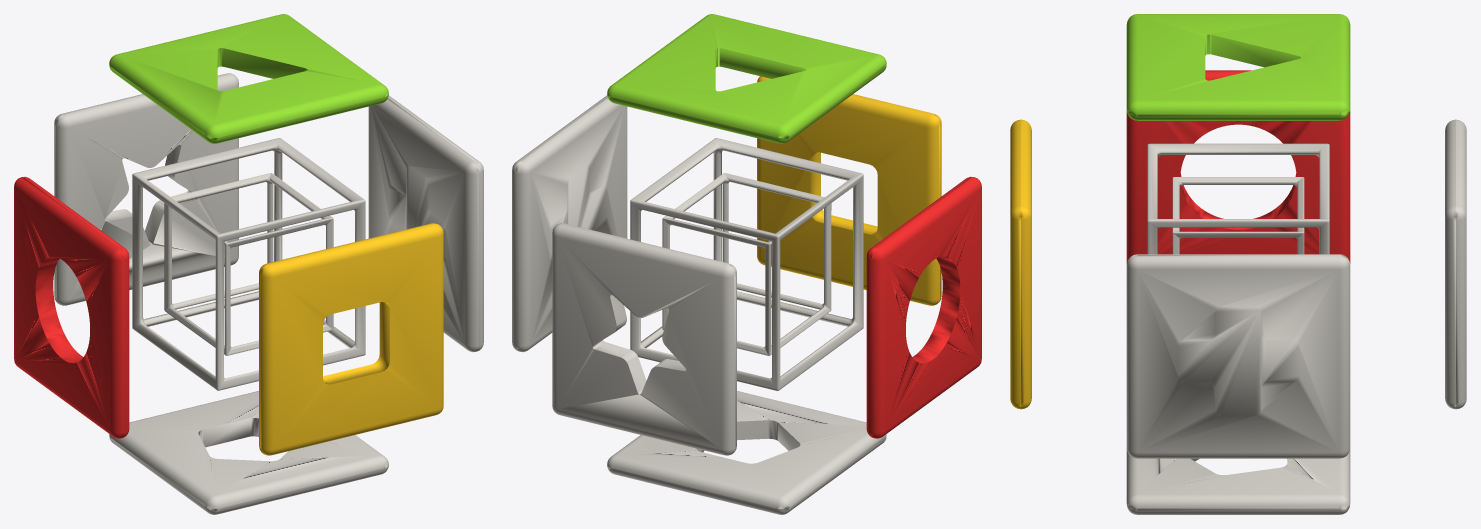
File: Toy_Cube_Hollow_Unity.fbx
3 renders of one model, left to right at view 1: azimuth 30°, elevation 25°; view 2: azimuth 150°, elevation 25°; view 3: azimuth 270°, elevation 25°, orthographic. The views are drawn at different scales.
Visible parts, largest first — view 1: Panel_Yellow_Square, Panel_Back_Star, Panel_Green_Triangle, Panel_Red_Circle, Panel_Right_Cross, Panel_Grey_Pentagon, Inner_Framework, Inner_Frame_Secondary; view 2: Panel_Back_Star, Panel_Green_Triangle, Panel_Red_Circle, Panel_Yellow_Square, Panel_Right_Cross, Panel_Grey_Pentagon, Inner_Framework, Inner_Frame_Secondary; view 3: Panel_Right_Cross, Panel_Green_Triangle, Panel_Red_Circle, Panel_Grey_Pentagon, Panel_Yellow_Square, Panel_Back_Star, Inner_Framework, Inner_Frame_Secondary.
Boxes of the visible parts, x1,y1,x2,y2 form: Panel_Yellow_Square: (259, 223, 443, 455); Panel_Back_Star: (54, 73, 238, 305); Panel_Green_Triangle: (109, 14, 388, 143); Panel_Red_Circle: (14, 176, 129, 438); Panel_Right_Cross: (368, 95, 483, 352); Panel_Grey_Pentagon: (109, 391, 388, 514); Inner_Framework: (132, 138, 365, 390); Inner_Frame_Secondary: (164, 173, 333, 355); Panel_Back_Star: (552, 223, 736, 455); Panel_Green_Triangle: (607, 14, 886, 143); Panel_Red_Circle: (866, 176, 981, 438); Panel_Yellow_Square: (757, 76, 941, 305); Panel_Right_Cross: (512, 95, 627, 352); Panel_Grey_Pentagon: (607, 391, 886, 514); Inner_Framework: (630, 138, 863, 390); Inner_Frame_Secondary: (662, 173, 831, 355); Panel_Right_Cross: (1126, 254, 1350, 458); Panel_Green_Triangle: (1126, 14, 1350, 120); Panel_Red_Circle: (1126, 70, 1350, 263); Panel_Grey_Pentagon: (1126, 448, 1350, 514); Panel_Yellow_Square: (1010, 119, 1031, 409); Panel_Back_Star: (1445, 119, 1466, 409); Inner_Framework: (1147, 143, 1329, 254); Inner_Frame_Secondary: (1172, 177, 1304, 254).
Bounding box in the file's own units: 378 × 378 × 378.
